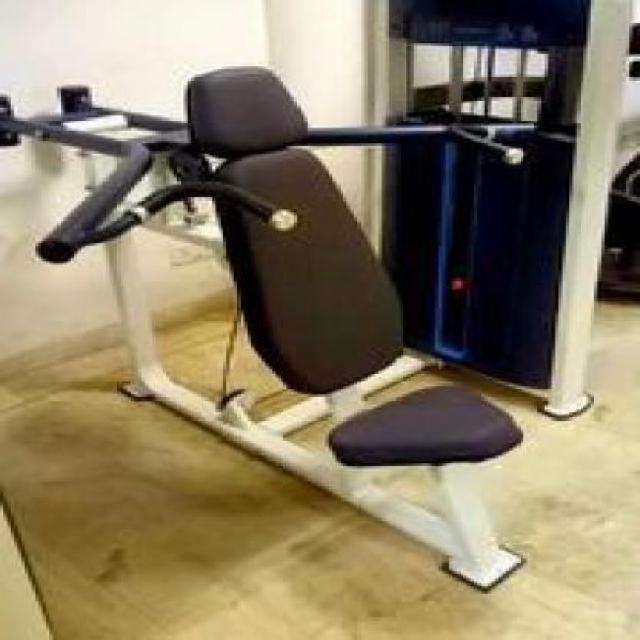shoulder press machine: (0, 0, 640, 605)
